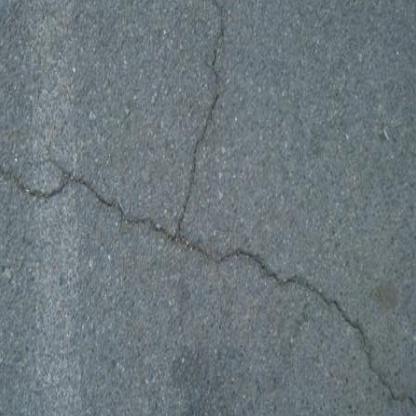Cracks: (219, 234, 416, 416), (0, 138, 233, 278), (170, 0, 240, 279)
